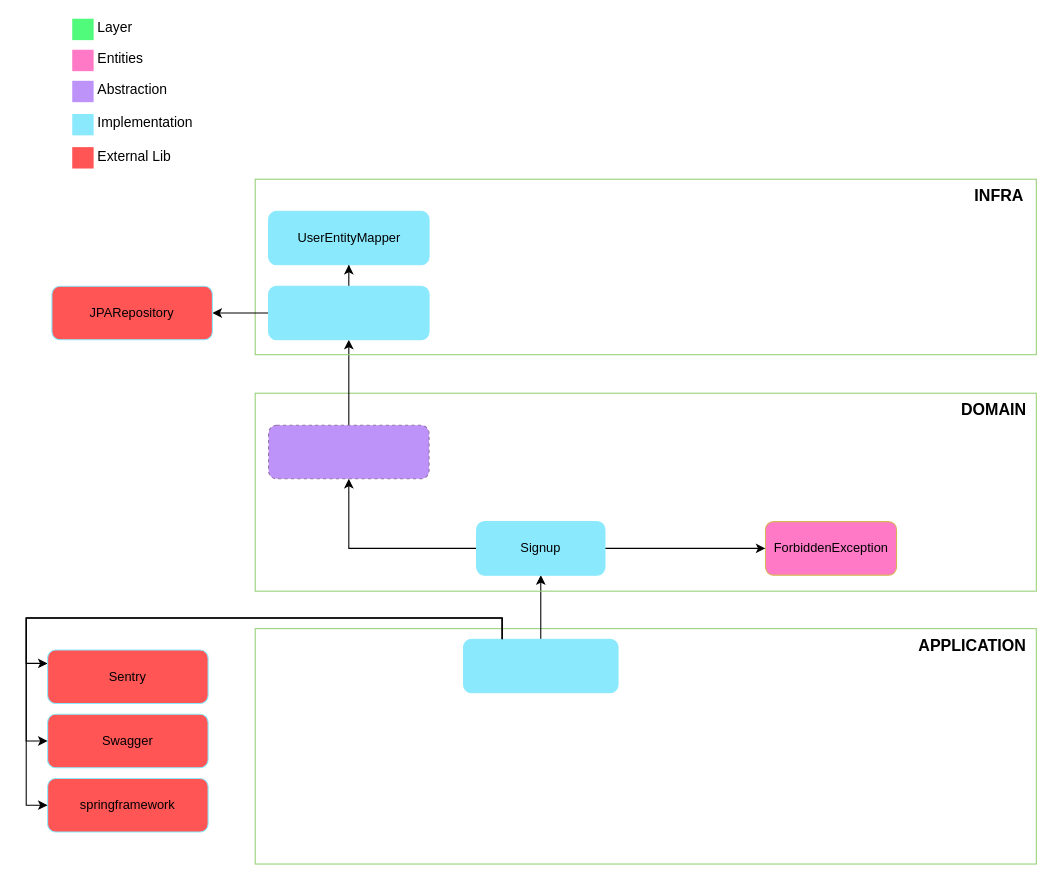
Some shapes in this 1055 by 883 pixel diagram are drawn without their labels. The centre of each missing label's shape, as x and y in pixels:
"AuthAdapter" goes at point 348,312.
"GetUserProfileController" goes at point 540,665.
"IAuthAdapter" goes at point 348,451.
